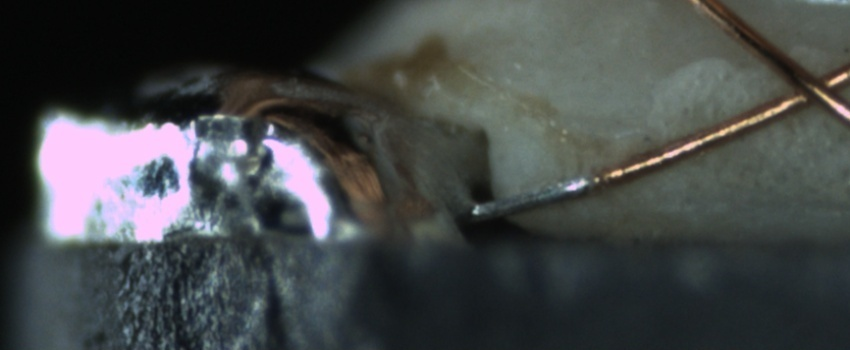CL: (764, 49, 849, 121)
TS: (461, 170, 602, 221)
